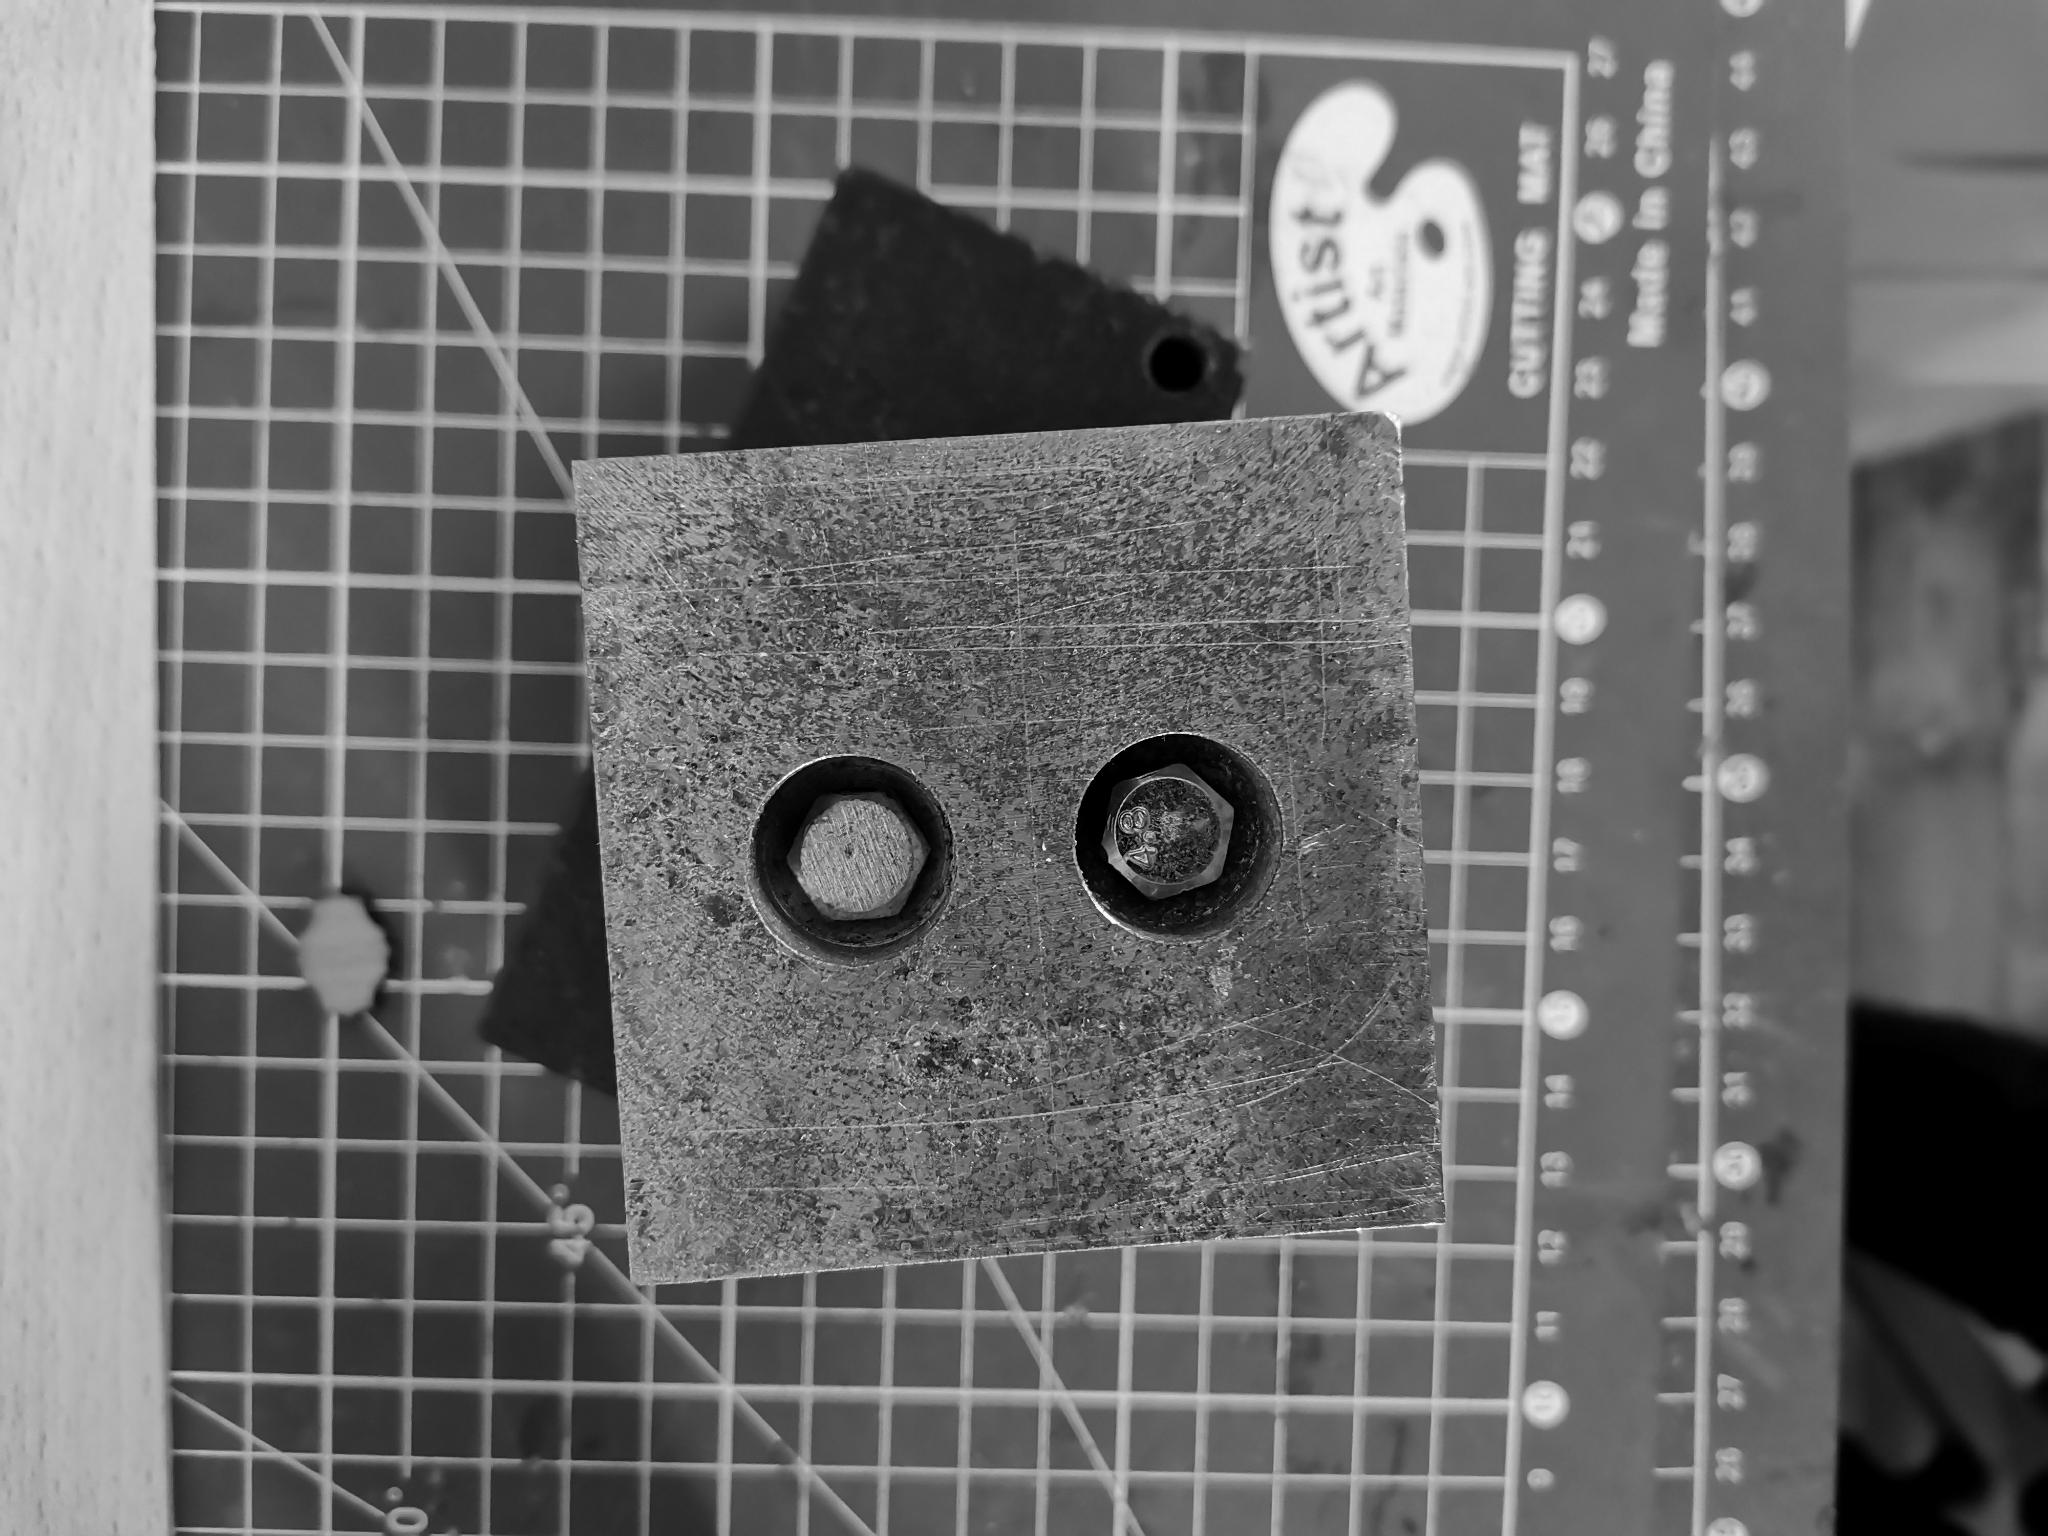hexagonal: (729, 745, 969, 965), (1066, 729, 1298, 952)
